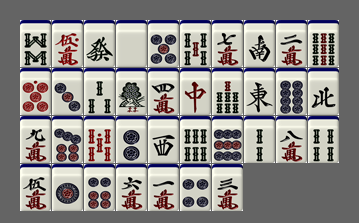0m: (52, 20, 83, 67)
0p: (20, 68, 51, 115)
0s: (84, 116, 115, 163)
1m: (148, 164, 179, 211)
1p: (52, 164, 83, 211)
1s: (116, 68, 147, 115)
1z: (244, 68, 275, 115)
2m: (276, 20, 307, 67)
2p: (116, 116, 147, 163)
2s: (244, 116, 275, 163)
2z: (244, 20, 275, 67)
3m: (212, 164, 243, 211)
3p: (52, 68, 83, 115)
3s: (84, 68, 115, 115)
3z: (148, 116, 179, 163)
4m: (148, 68, 179, 115)
4p: (180, 164, 211, 211)
4s: (308, 116, 339, 163)
4z: (308, 68, 339, 115)
5m: (20, 164, 51, 211)
5p: (148, 20, 179, 67)
5s: (180, 20, 211, 67)
5z: (116, 20, 147, 67)
6m: (116, 164, 147, 211)
6p: (84, 164, 115, 211)
6s: (180, 116, 211, 163)
6z: (84, 20, 115, 67)
7m: (212, 20, 243, 67)
7p: (52, 116, 83, 163)
7s: (212, 68, 243, 115)
7z: (180, 68, 211, 115)
8m: (276, 116, 307, 163)
8p: (276, 68, 307, 115)
8s: (20, 20, 51, 67)
9m: (20, 116, 51, 163)
9p: (212, 116, 243, 163)
9s: (308, 20, 339, 67)
